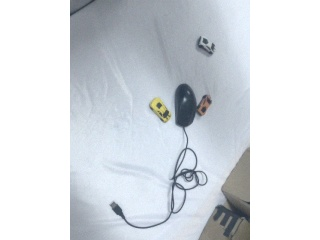box: (188, 205, 249, 240)
mouse: (175, 84, 197, 127)
toy_car: (149, 97, 172, 122)
